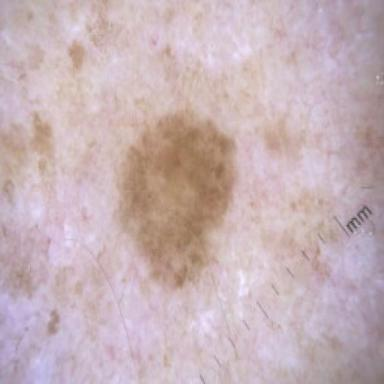Melanoma: (120, 112, 235, 287)
